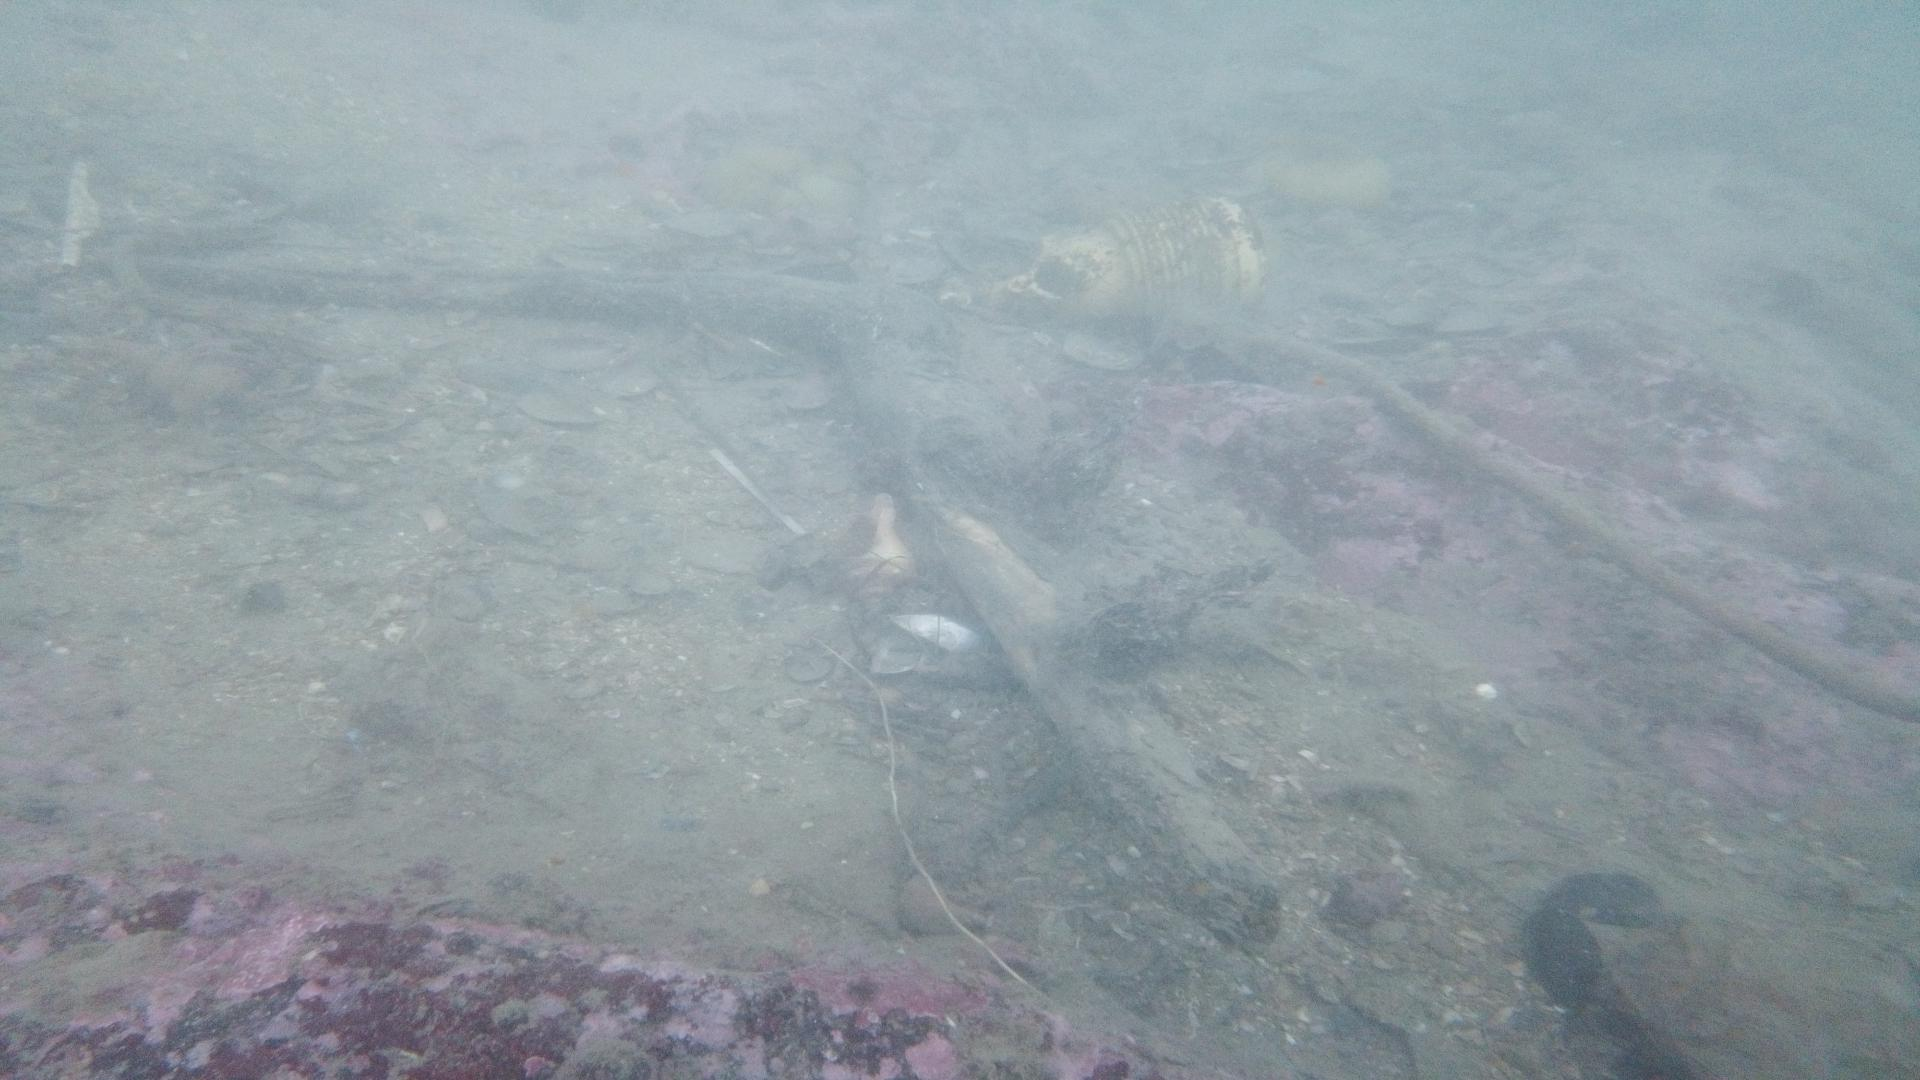rope: (1261, 327, 1920, 724)
wood: (133, 251, 1286, 957)
